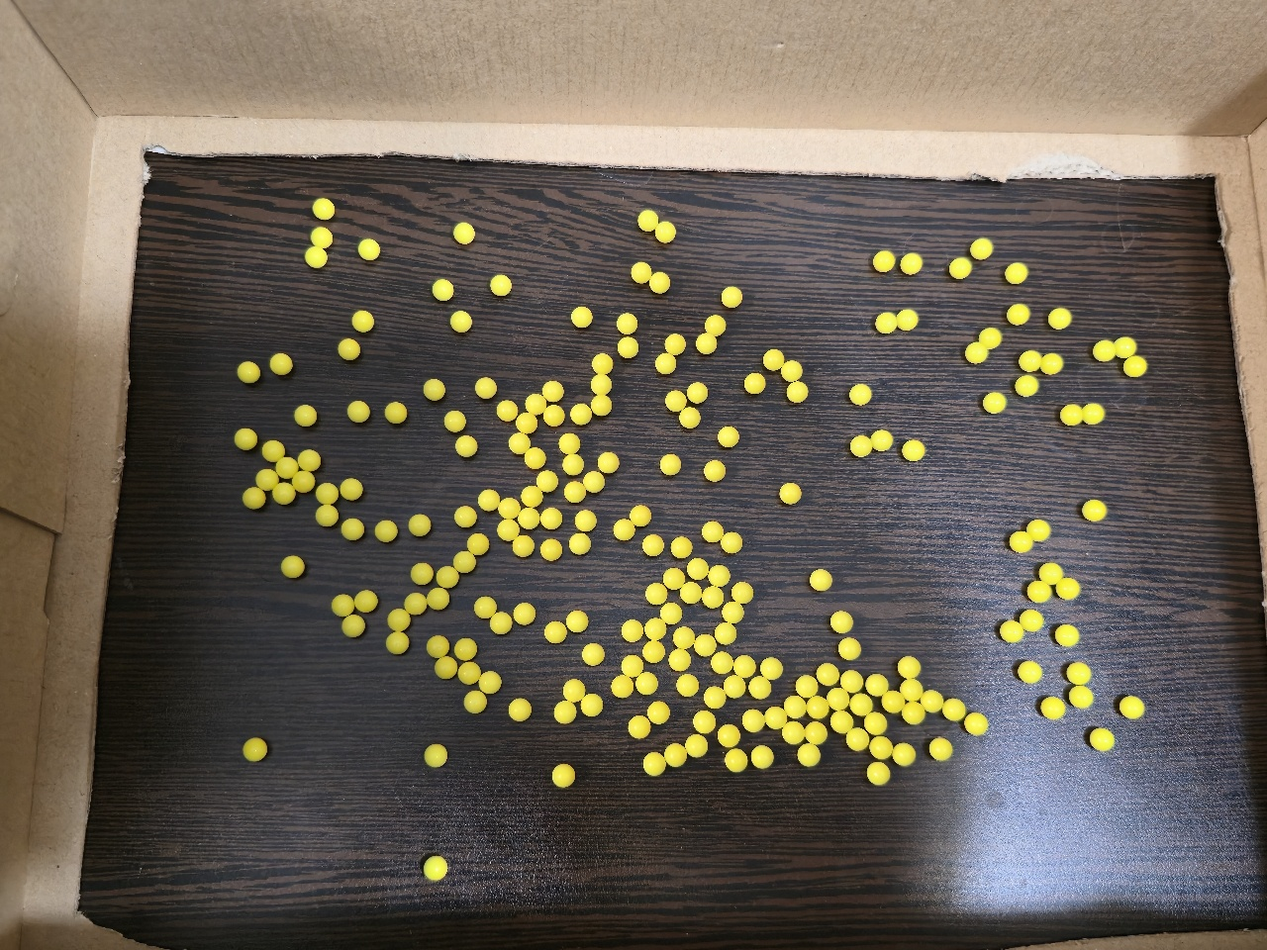yellow_bead: (971, 332, 997, 358), (1098, 342, 1124, 356), (429, 861, 442, 876), (1124, 701, 1139, 714), (1095, 733, 1109, 746), (851, 732, 864, 746), (1046, 702, 1060, 715), (1074, 691, 1088, 704), (1033, 585, 1047, 598), (1044, 568, 1058, 581), (874, 741, 887, 754), (787, 726, 800, 739), (835, 715, 848, 728), (747, 714, 760, 727), (1061, 629, 1074, 642), (1072, 668, 1086, 680), (1023, 667, 1037, 679), (1031, 524, 1045, 536), (1086, 408, 1100, 420), (1053, 313, 1067, 325), (872, 768, 885, 780), (648, 758, 660, 771), (730, 754, 742, 767), (898, 748, 910, 761), (803, 748, 815, 761), (934, 744, 947, 756), (971, 718, 983, 731), (870, 717, 882, 730), (907, 707, 920, 719), (789, 701, 802, 713), (586, 699, 598, 712), (469, 696, 481, 709), (926, 695, 938, 708), (832, 693, 844, 706), (906, 684, 918, 697), (753, 681, 765, 694), (845, 676, 858, 688), (988, 397, 1001, 409), (881, 317, 894, 329), (310, 250, 322, 263), (947, 704, 961, 715), (1005, 626, 1019, 637), (1024, 616, 1038, 627), (1088, 505, 1102, 516), (1065, 410, 1079, 421), (1128, 360, 1142, 371), (1023, 355, 1037, 366), (756, 751, 768, 763), (249, 744, 261, 756), (690, 740, 702, 752), (810, 727, 822, 739), (698, 716, 710, 728), (769, 712, 781, 724), (559, 706, 571, 718), (514, 704, 526, 716), (855, 699, 867, 711), (568, 685, 580, 697), (801, 681, 813, 693), (681, 680, 693, 692), (871, 679, 883, 691), (640, 678, 652, 690), (484, 677, 496, 689), (822, 669, 834, 681), (463, 667, 475, 679), (765, 663, 777, 675), (904, 662, 916, 674), (738, 661, 750, 673), (716, 657, 728, 669), (647, 646, 659, 658), (843, 643, 855, 655), (459, 643, 471, 655), (391, 636, 403, 648), (678, 632, 690, 644), (649, 623, 661, 635), (479, 602, 491, 614), (410, 598, 422, 610), (707, 592, 719, 604), (692, 563, 704, 575), (502, 523, 514, 535), (321, 510, 333, 522), (503, 503, 515, 515), (1021, 380, 1033, 392), (1011, 267, 1023, 279), (430, 749, 441, 762), (811, 702, 824, 713), (887, 697, 900, 708), (617, 680, 628, 693), (1063, 584, 1076, 595), (1015, 536, 1028, 547), (855, 441, 868, 452), (1045, 358, 1058, 369), (900, 314, 913, 325), (1012, 309, 1025, 320), (954, 262, 967, 273), (975, 242, 988, 253), (557, 770, 568, 782), (669, 750, 680, 762), (709, 692, 720, 704), (440, 662, 451, 674), (674, 654, 685, 666), (432, 641, 443, 653), (699, 640, 711, 651), (720, 627, 731, 639), (549, 626, 560, 638), (347, 620, 359, 631), (835, 617, 847, 628), (393, 614, 404, 626), (665, 608, 677, 619), (337, 600, 348, 612), (432, 593, 443, 605), (685, 588, 697, 599), (668, 573, 679, 585), (714, 570, 725, 582), (416, 568, 427, 580), (458, 556, 469, 568), (346, 523, 358, 534), (523, 513, 535, 524), (321, 488, 333, 499), (345, 484, 357, 495), (875, 435, 887, 446), (300, 410, 311, 422), (352, 406, 363, 418), (854, 389, 866, 400), (275, 358, 286, 370), (878, 255, 890, 266), (363, 243, 374, 255), (359, 596, 372, 606), (652, 708, 663, 719), (587, 649, 598, 660), (650, 589, 661, 600), (737, 588, 748, 599), (815, 575, 826, 586), (441, 572, 452, 583), (287, 561, 298, 572), (545, 544, 556, 555), (472, 539, 483, 550), (574, 538, 585, 549), (707, 526, 718, 537), (380, 525, 391, 536), (414, 520, 425, 531), (483, 495, 494, 506), (278, 488, 289, 499), (588, 477, 599, 488), (541, 476, 552, 487), (261, 474, 272, 485), (281, 462, 292, 473), (908, 445, 919, 456), (267, 445, 278, 456), (514, 437, 525, 448), (240, 433, 251, 444), (449, 416, 460, 427), (575, 409, 586, 420), (390, 408, 401, 419), (768, 354, 779, 365), (343, 344, 354, 355), (455, 316, 466, 327), (357, 316, 368, 327), (316, 232, 327, 243), (318, 204, 329, 215), (723, 730, 733, 742), (634, 721, 644, 733), (729, 681, 739, 693), (627, 660, 637, 672), (627, 624, 637, 636), (303, 455, 315, 465), (596, 399, 606, 411), (787, 365, 797, 377), (701, 336, 711, 348), (710, 320, 720, 332), (906, 258, 918, 268), (660, 226, 670, 238), (495, 618, 506, 628), (571, 617, 582, 627), (519, 609, 530, 619), (728, 607, 738, 618), (676, 542, 686, 553), (518, 541, 529, 551), (647, 540, 657, 551), (726, 537, 736, 548), (619, 524, 629, 535), (580, 516, 591, 526), (459, 512, 470, 522), (634, 511, 644, 522), (527, 491, 537, 502), (785, 488, 795, 499), (569, 487, 579, 498), (709, 466, 720, 476), (568, 459, 578, 470), (460, 441, 471, 451), (564, 438, 574, 449), (684, 413, 694, 424), (548, 410, 558, 421), (670, 396, 680, 407), (792, 387, 803, 397), (547, 386, 557, 397), (429, 384, 439, 395), (596, 379, 606, 390), (749, 378, 759, 389), (243, 367, 254, 377), (660, 358, 670, 369), (623, 342, 634, 352), (576, 312, 586, 323), (496, 280, 506, 291), (654, 277, 664, 288), (458, 228, 469, 238), (643, 215, 653, 226), (438, 284, 447, 296), (248, 493, 258, 503), (299, 476, 309, 486), (665, 460, 675, 470), (603, 457, 613, 467), (692, 388, 702, 398), (480, 383, 490, 393), (597, 359, 607, 369), (670, 339, 680, 349), (622, 319, 632, 329), (636, 267, 646, 277), (545, 514, 556, 523), (521, 418, 532, 427), (530, 453, 539, 463), (723, 431, 732, 441), (502, 406, 512, 415), (531, 399, 540, 409), (727, 292, 736, 302)
